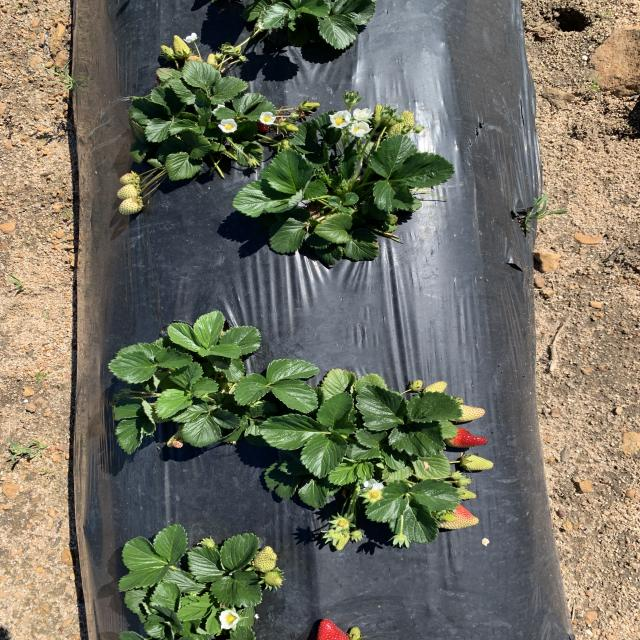unripe: (442, 426, 490, 447), (314, 618, 350, 640), (250, 117, 271, 132)
